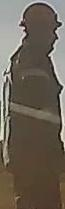helmet: (18, 2, 62, 27)
vest: (2, 56, 62, 176)
